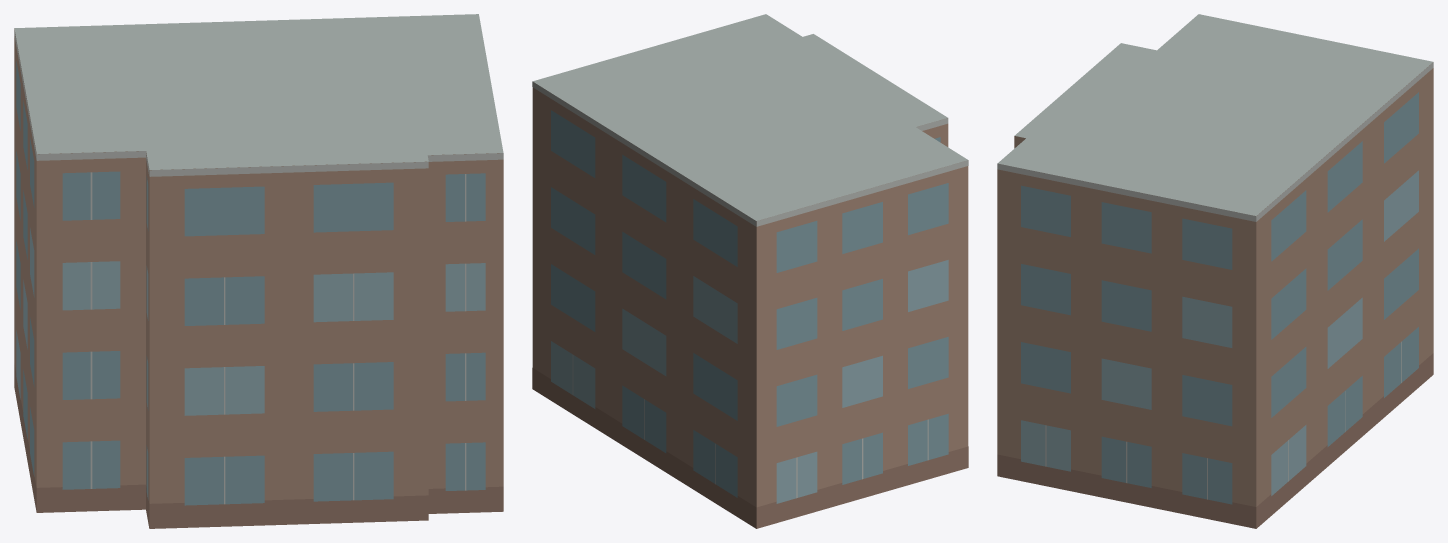
File: survey-upis-33009290.glb
The picture shows the model from 3 angles, left to right: view 1: azimuth 30°, elevation 25°; view 2: azimuth 150°, elevation 25°; view 3: azimuth 270°, elevation 25°; orthographic projection. The views are drawn at different scales.
Visible parts, largest first — view 1: survey-upis-33009290.tmp; view 2: survey-upis-33009290.tmp; view 3: survey-upis-33009290.tmp.
Part boxes in pixels (x1,y1,x2,y2): survey-upis-33009290.tmp: [14, 14, 503, 528]; survey-upis-33009290.tmp: [532, 14, 968, 528]; survey-upis-33009290.tmp: [997, 14, 1433, 528].
Bounding box in the file's own units: 18.03 × 13 × 16.44.
